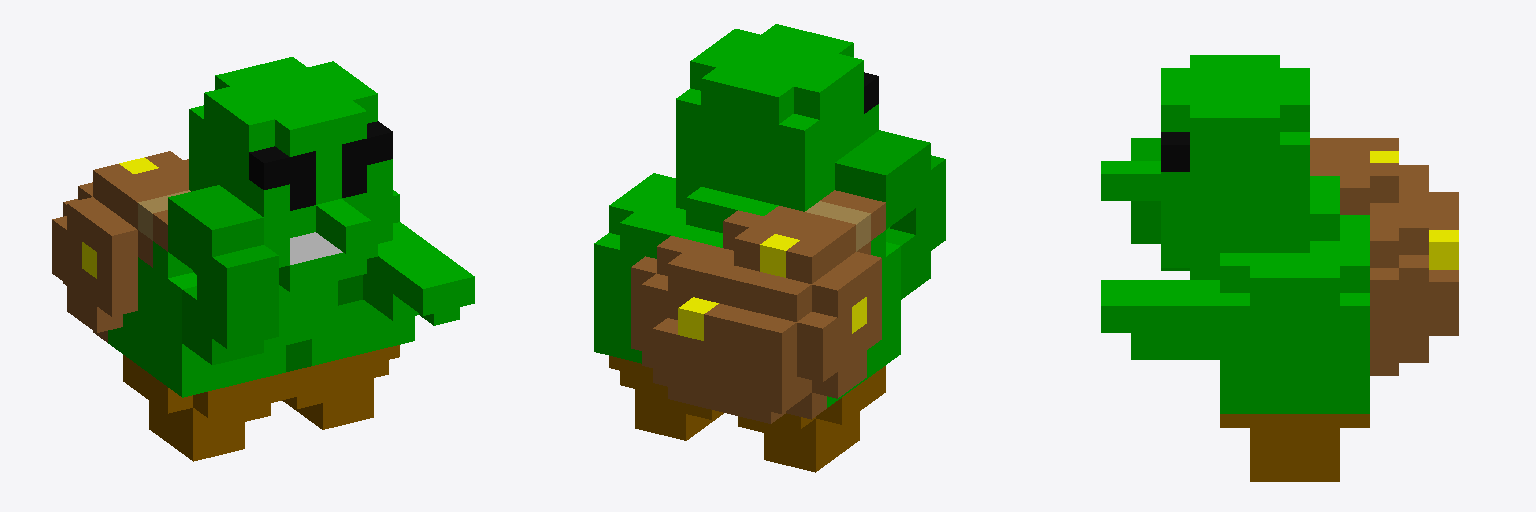
3 renders of one model, left to right at view 1: azimuth 30°, elevation 25°; view 2: azimuth 150°, elevation 25°; view 3: azimuth 270°, elevation 25°, orthographic.
Parts seen in each view (by area): view 1: object 1; view 2: object 1; view 3: object 1.
Boxes of the visible parts, <box> form: object 1: <box>52,57,474,461</box>; object 1: <box>594,24,945,472</box>; object 1: <box>1101,55,1458,481</box>.
Bounding box in the file's own units: 1 × 1.3 × 1.2.
Materials: 1 (1 with a texture image).